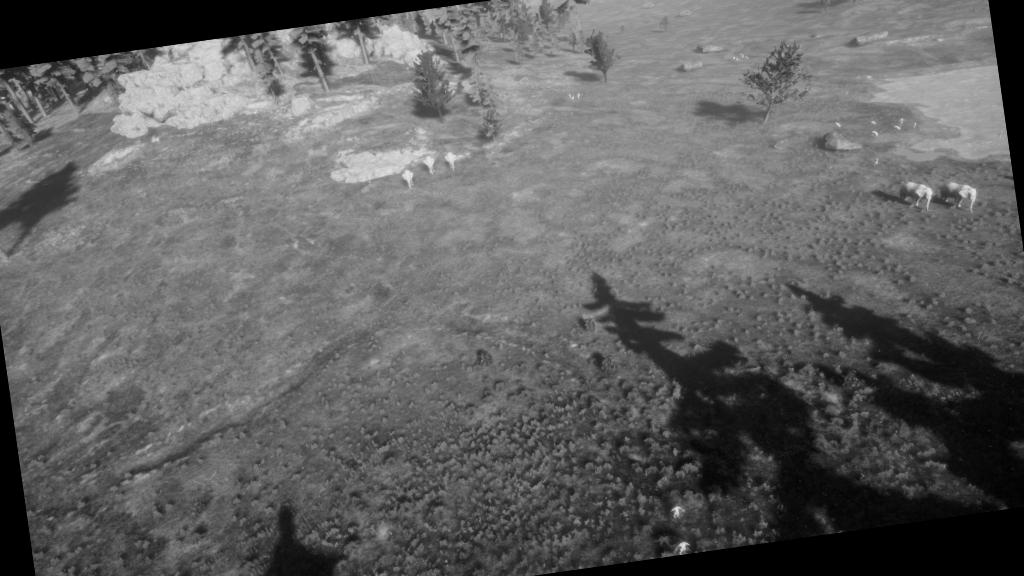elephant: (886, 173, 940, 221), (934, 175, 982, 220), (398, 166, 422, 194), (420, 153, 441, 179), (442, 149, 462, 174)
human: (660, 498, 690, 528), (672, 535, 696, 555), (897, 116, 906, 128), (912, 120, 920, 132)
